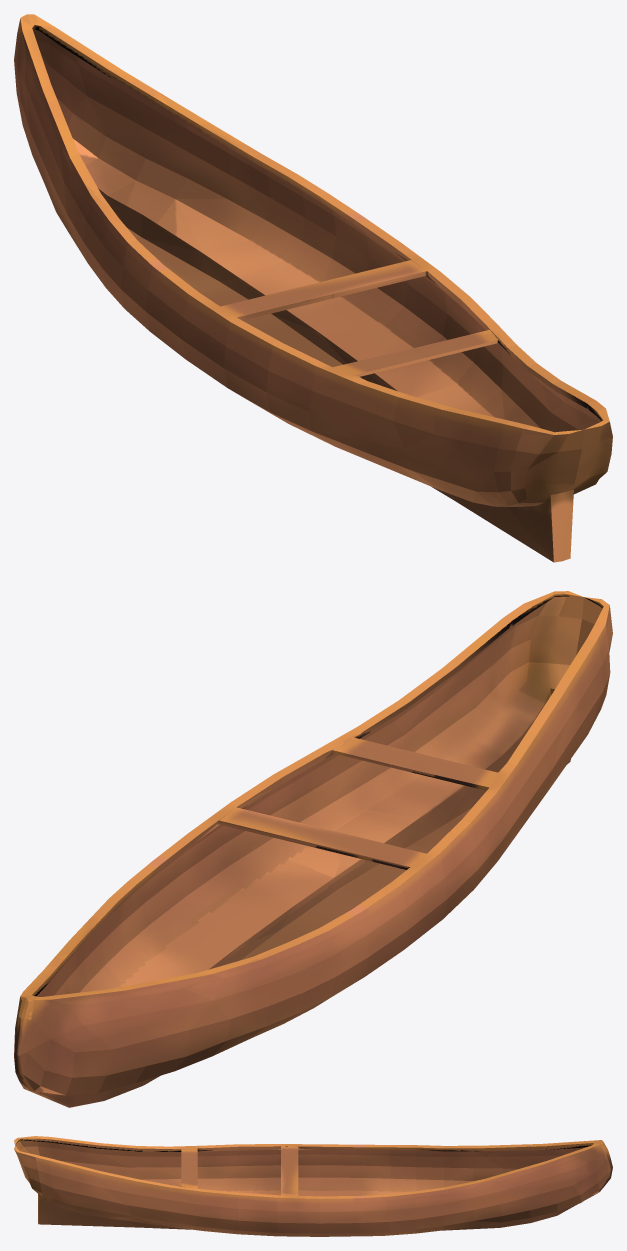
File: Canoe.obj
The picture shows the model from 3 angles, top to bottom: view 1: azimuth 30°, elevation 25°; view 2: azimuth 150°, elevation 25°; view 3: azimuth 270°, elevation 25°; orthographic projection. The views are drawn at different scales.
Visible parts, largest first — view 1: Canoe_Plane; view 2: Canoe_Plane; view 3: Canoe_Plane.
Boxes of the visible parts, x1=… form: Canoe_Plane: x1=14, y1=14, x2=612, y2=562; Canoe_Plane: x1=14, y1=591, x2=612, y2=1107; Canoe_Plane: x1=14, y1=1136, x2=612, y2=1236.
Bounding box in the file's own units: 1.15 × 0.7563 × 4.98.
